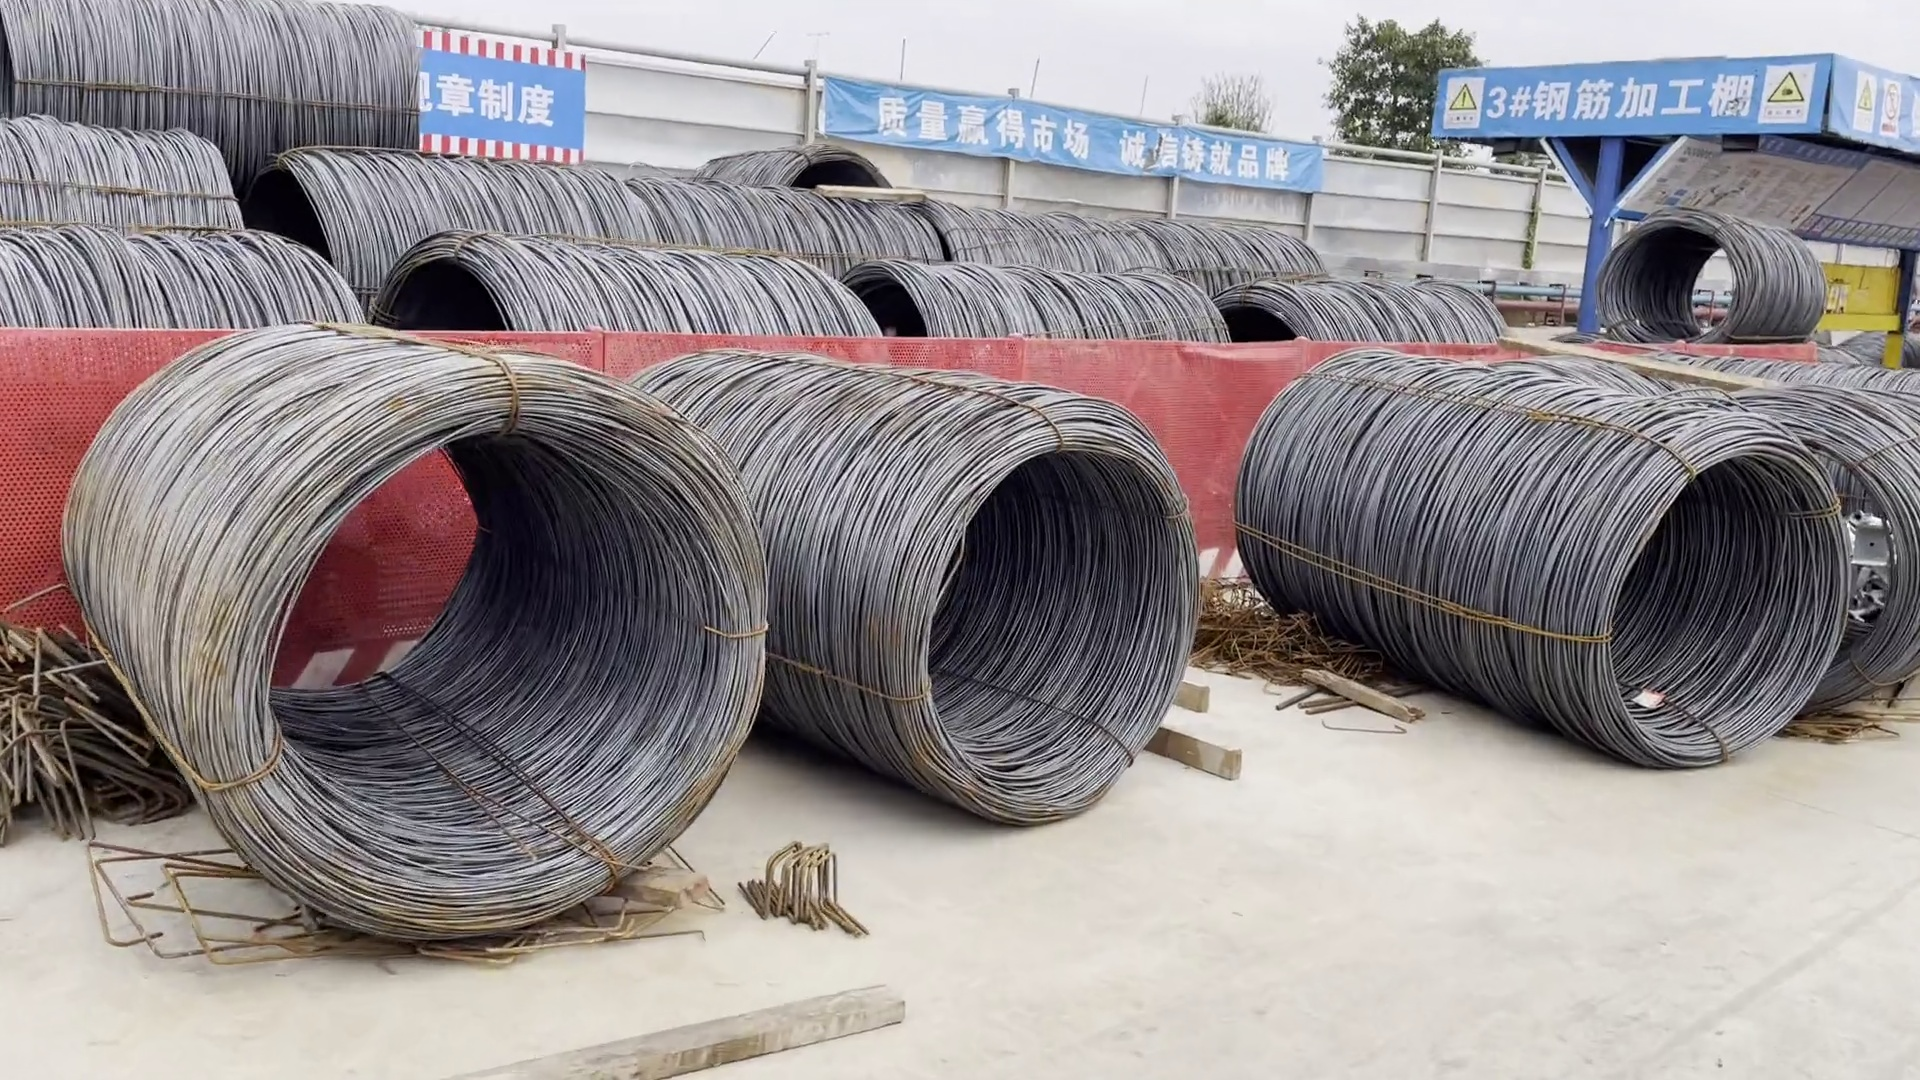slogan: (861, 95, 1295, 193)
